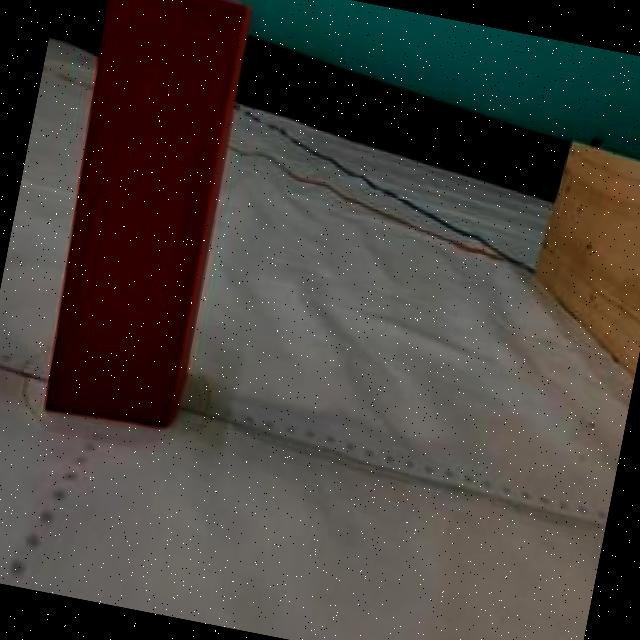redbox: (28, 0, 266, 439)
